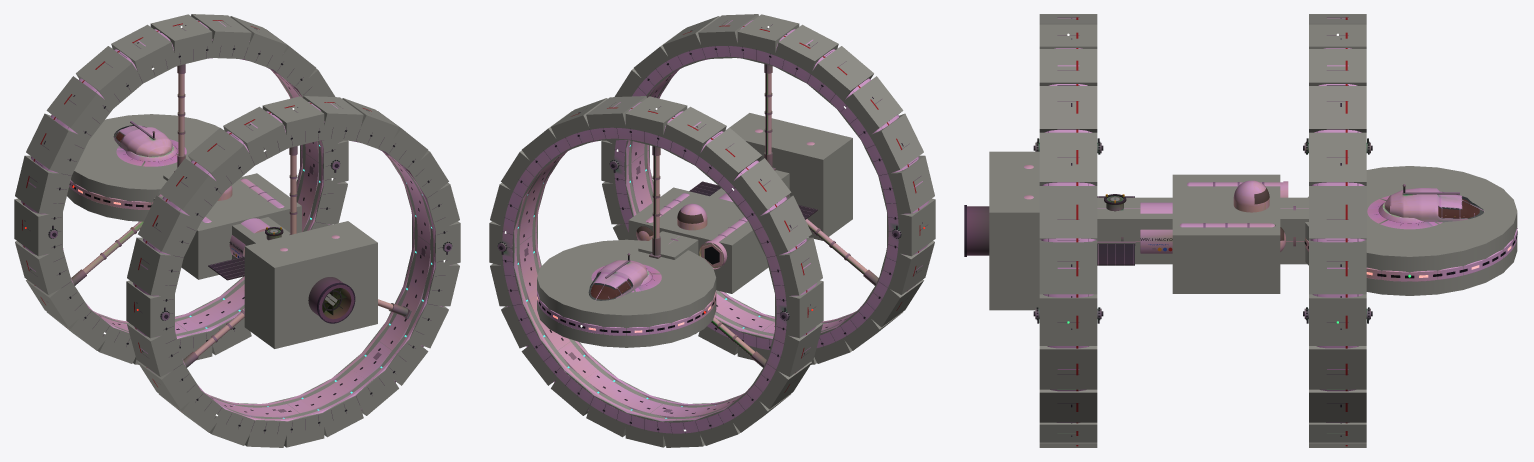
File: warpship.glb
The picture shows the model from 3 angles, left to right: view 1: azimuth 30°, elevation 25°; view 2: azimuth 150°, elevation 25°; view 3: azimuth 270°, elevation 25°; orthographic projection. The views are drawn at different scales.
Visible parts, largest first — view 1: warpship_col__m, warpship_hull__m, ring_aft__m, ring_fwd__m; view 2: warpship_col__m, ring_fwd__m, ring_aft__m, warpship_hull__m, warpship_glass__m, bridge_backdrop__m; view 3: warpship_col__m, warpship_hull__m, ring_aft__m, ring_fwd__m, warpship_glass__m.
Boxes of the visible parts, x1,y1,x2,y2 form: warpship_col__m: (14, 14, 460, 447); warpship_hull__m: (69, 64, 411, 367); ring_aft__m: (133, 102, 452, 433); ring_fwd__m: (21, 20, 340, 348); warpship_col__m: (489, 14, 935, 447); ring_fwd__m: (497, 102, 816, 433); ring_aft__m: (609, 20, 928, 349); warpship_hull__m: (537, 64, 878, 367); warpship_glass__m: (588, 209, 719, 300); bridge_backdrop__m: (589, 272, 632, 299); warpship_col__m: (989, 14, 1517, 447); warpship_hull__m: (964, 165, 1519, 281); ring_aft__m: (1033, 17, 1103, 446); ring_fwd__m: (1303, 17, 1372, 446); warpship_glass__m: (1254, 185, 1483, 240).
Bounding box in the file's own units: 121 × 121 × 155.
